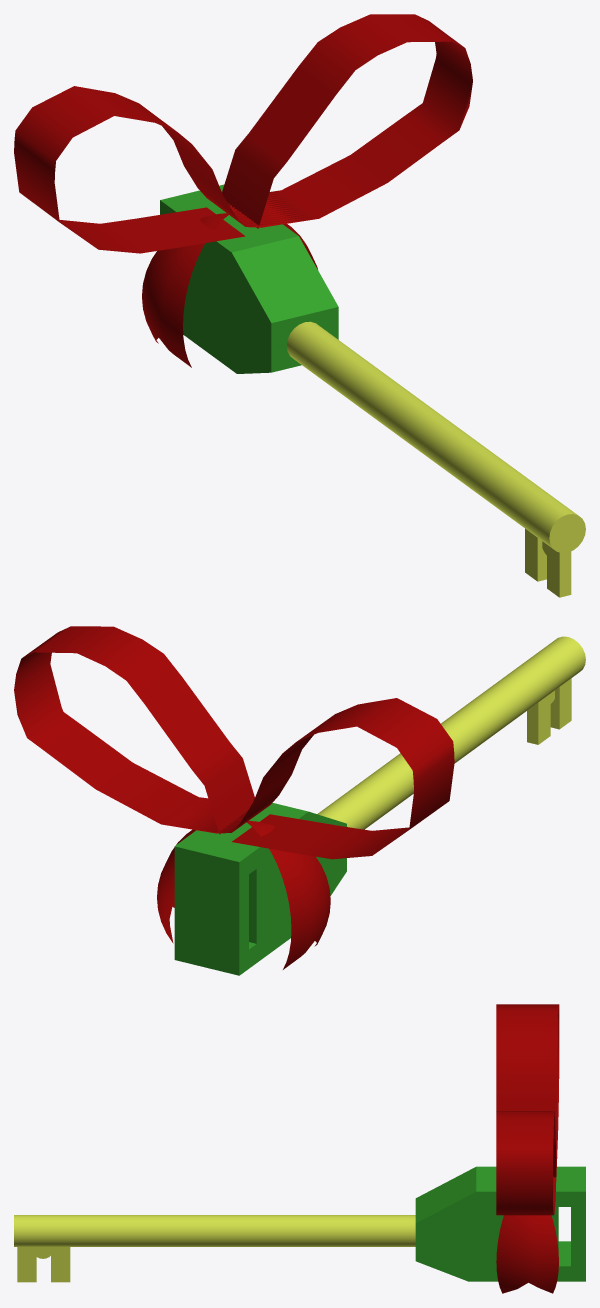
File: KeyFBX 1.fbx
The picture shows the model from 3 angles, top to bottom: view 1: azimuth 30°, elevation 25°; view 2: azimuth 150°, elevation 25°; view 3: azimuth 270°, elevation 25°; orthographic projection. The views are drawn at different scales.
Parts seen in each view (by area): view 1: revolvedSurface1, pCube4, pCylinder1, pSphere1, pCube1, pCube2; view 2: revolvedSurface1, pCube4, pCylinder1, pSphere1, pCube2, pCube1; view 3: revolvedSurface1, pCylinder1, pCube4, pSphere1, pCube1, pCube2.
Boxes of the visible parts, bbox=[...] form: revolvedSurface1: bbox=[14, 14, 472, 253]; pCube4: bbox=[160, 184, 338, 373]; pCylinder1: bbox=[286, 321, 585, 553]; pSphere1: bbox=[142, 210, 317, 367]; pCube1: bbox=[547, 545, 571, 597]; pCube2: bbox=[525, 528, 546, 581]; revolvedSurface1: bbox=[14, 626, 454, 859]; pCube4: bbox=[174, 802, 346, 975]; pCylinder1: bbox=[317, 636, 585, 829]; pSphere1: bbox=[157, 819, 330, 969]; pCube2: bbox=[527, 694, 550, 744]; pCube1: bbox=[550, 678, 571, 729]; revolvedSurface1: bbox=[496, 1004, 559, 1215]; pCylinder1: bbox=[14, 1215, 415, 1246]; pCube4: bbox=[415, 1166, 585, 1281]; pSphere1: bbox=[496, 1215, 558, 1293]; pCube1: bbox=[17, 1247, 36, 1282]; pCube2: bbox=[51, 1247, 70, 1282].
Bounding box in the file's own units: 7.91 × 5.18 × 12.23.
